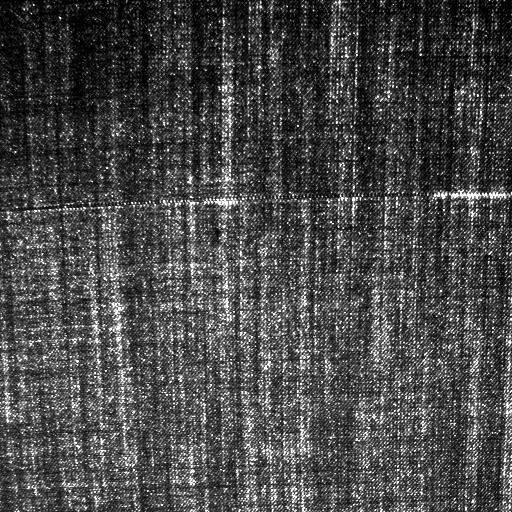fabric_hole: (20, 171, 498, 221)
